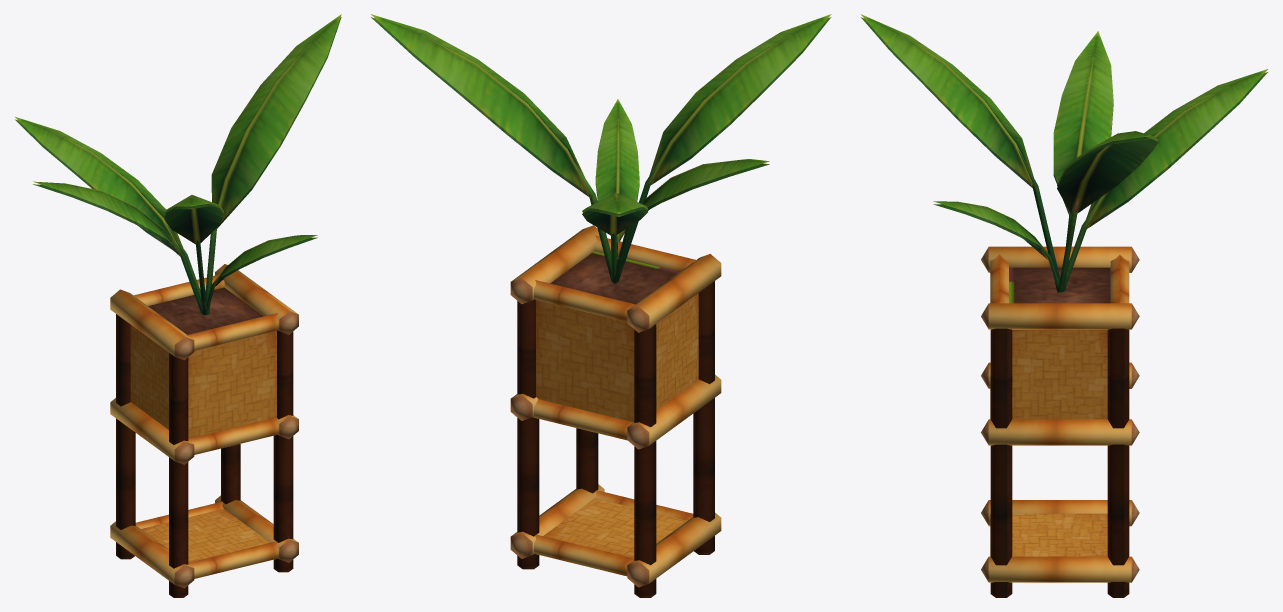
The model's file is Bamboo_Plant_01.fbx.
3 views of the same model, side by side, from view 1: azimuth 30°, elevation 25°; view 2: azimuth 150°, elevation 25°; view 3: azimuth 270°, elevation 25° (orthographic). The views are drawn at different scales.
Visible parts, largest first — view 1: Bamboo_Plant_01; view 2: Bamboo_Plant_01; view 3: Bamboo_Plant_01.
Part boxes in pixels (box(x1,y1,x2,y2)): Bamboo_Plant_01: box(15, 14, 341, 597); Bamboo_Plant_01: box(371, 14, 831, 597); Bamboo_Plant_01: box(861, 14, 1267, 597).
Bounding box in the file's own units: 30.03 × 40.75 × 28.63.
